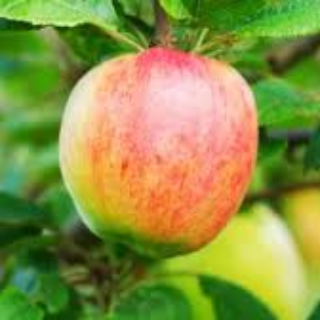tao: (56, 39, 267, 265)
